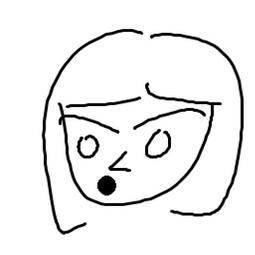empty_eye: (143, 126, 175, 162), (74, 130, 102, 162)
frowning_eyebrow: (53, 110, 121, 138), (132, 107, 208, 131)
open_mouth: (95, 175, 117, 196)
pointy_nose: (108, 150, 136, 176)
